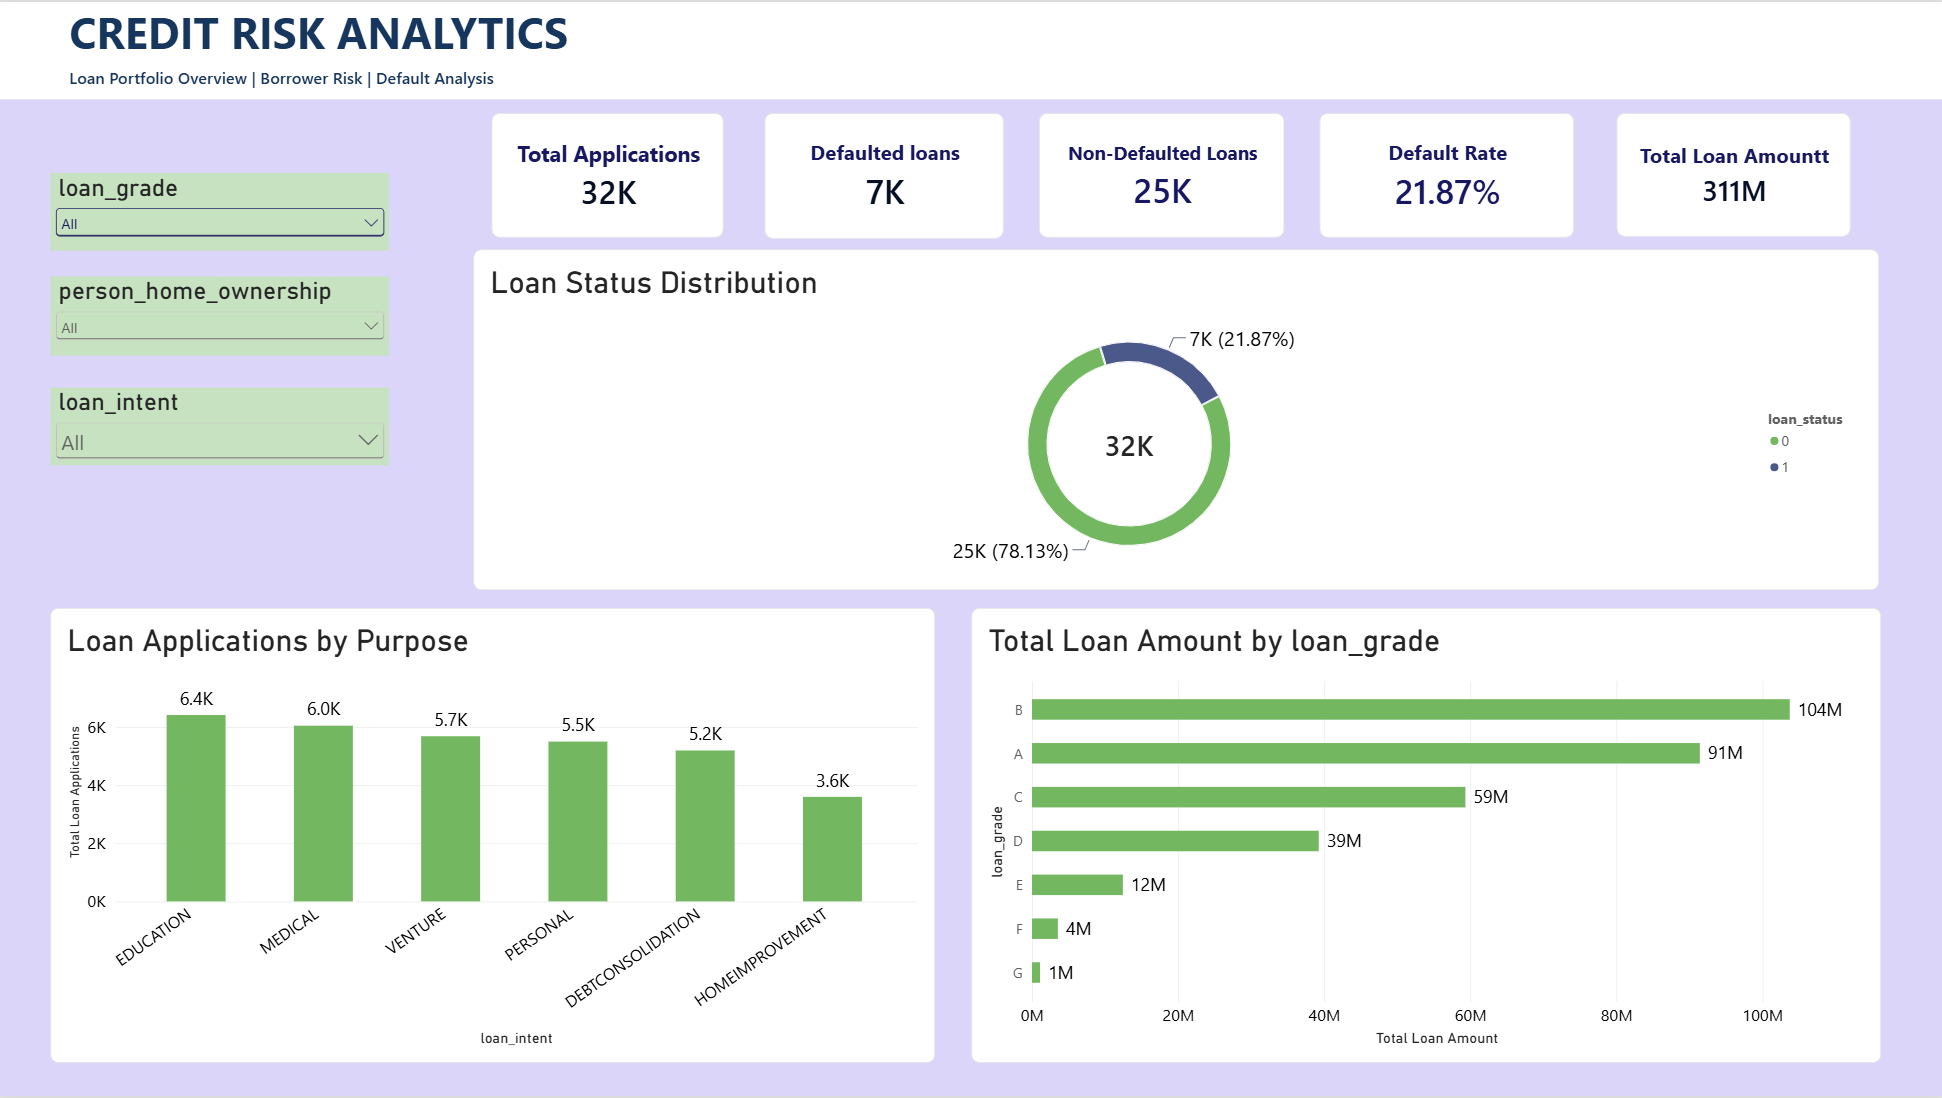

The page's visual inventory and layout, read from the dashboard file:
{"tool":"powerbi","page":{"name":"credit","canvas":[1920,1080],"ordinal":0},"visuals":[{"type":"cardVisual","fields":{"Data":["loan_risk_portfolio credit_risk_dataset.Total Loan Applications"]},"box":[487,108.9,229.4,123.4],"z":0},{"type":"cardVisual","fields":{"Data":["loan_risk_portfolio credit_risk_dataset.Defaulted loans"]},"box":[756.3,108.9,236.8,124.1],"z":1},{"type":"cardVisual","fields":{"Data":["loan_risk_portfolio credit_risk_dataset.Non-Defaulted Loans"]},"box":[1027.5,108.9,242.1,123.4],"z":2},{"type":"cardVisual","fields":{"Data":["loan_risk_portfolio credit_risk_dataset.Default Rate"]},"box":[1304.4,108.9,251.5,123.4],"z":3},{"type":"textbox","box":[0,0,1920,96],"z":5},{"type":"textbox","box":[0,64,1596,32],"z":6},{"type":"donutChart","title":"Loan Status Distribution","fields":{"Category":["loan_risk_portfolio credit_risk_dataset.loan_status"],"Y":["loan_risk_portfolio credit_risk_dataset.Total Loan Applications"]},"box":[469.8,244.5,1386.5,336.1],"z":7},{"type":"clusteredBarChart","title":"Total Loan Amount by loan_grade","fields":{"Category":["loan_risk_portfolio credit_risk_dataset.loan_grade"],"Y":["loan_risk_portfolio credit_risk_dataset.Total Loan Amountt"]},"box":[960.6,597.8,897.6,448.8],"z":8},{"type":"clusteredColumnChart","title":"Loan Applications by Purpose","fields":{"Category":["loan_risk_portfolio credit_risk_dataset.loan_intent"],"Y":["loan_risk_portfolio credit_risk_dataset.Total Loan Applications"]},"box":[51.6,597.8,872.8,448.8],"z":9},{"type":"slicer","fields":{"Values":["loan_risk_portfolio credit_risk_dataset.loan_grade"]},"box":[51.6,168.1,334.2,76.4],"z":10},{"type":"slicer","fields":{"Values":["loan_risk_portfolio credit_risk_dataset.loan_intent"]},"box":[51.6,380.1,334.2,76.4],"z":11},{"type":"slicer","fields":{"Values":["loan_risk_portfolio credit_risk_dataset.person_home_ownership"]},"box":[51.6,271.2,334.2,78.3],"z":12},{"type":"cardVisual","fields":{"Data":["loan_risk_portfolio credit_risk_dataset.Total Loan Amountt"]},"box":[1596.6,108.9,231.1,122.2],"z":13}]}

Visuals, with their boxes in screenshot pixels (x1, y1, x2, y2), scaled from the page's 1920x1080 canvas onto the 1942x1098 screenshot:
cardVisual - loan_risk_portfolio credit_risk_dataset.Total Loan Applications: 493/111/725/236
cardVisual - loan_risk_portfolio credit_risk_dataset.Defaulted loans: 765/111/1004/237
cardVisual - loan_risk_portfolio credit_risk_dataset.Non-Defaulted Loans: 1039/111/1284/236
cardVisual - loan_risk_portfolio credit_risk_dataset.Default Rate: 1319/111/1574/236
textbox: 0/0/1941/98
textbox: 0/65/1614/98
"Loan Status Distribution" donutChart: 475/249/1878/590
"Total Loan Amount by loan_grade" clusteredBarChart: 972/608/1879/1064
"Loan Applications by Purpose" clusteredColumnChart: 52/608/935/1064
slicer - loan_risk_portfolio credit_risk_dataset.loan_grade: 52/171/390/249
slicer - loan_risk_portfolio credit_risk_dataset.loan_intent: 52/386/390/464
slicer - loan_risk_portfolio credit_risk_dataset.person_home_ownership: 52/276/390/355
cardVisual - loan_risk_portfolio credit_risk_dataset.Total Loan Amountt: 1615/111/1849/235
